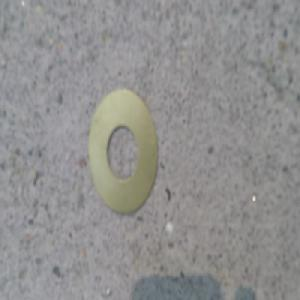Washer: (87, 86, 161, 218)
